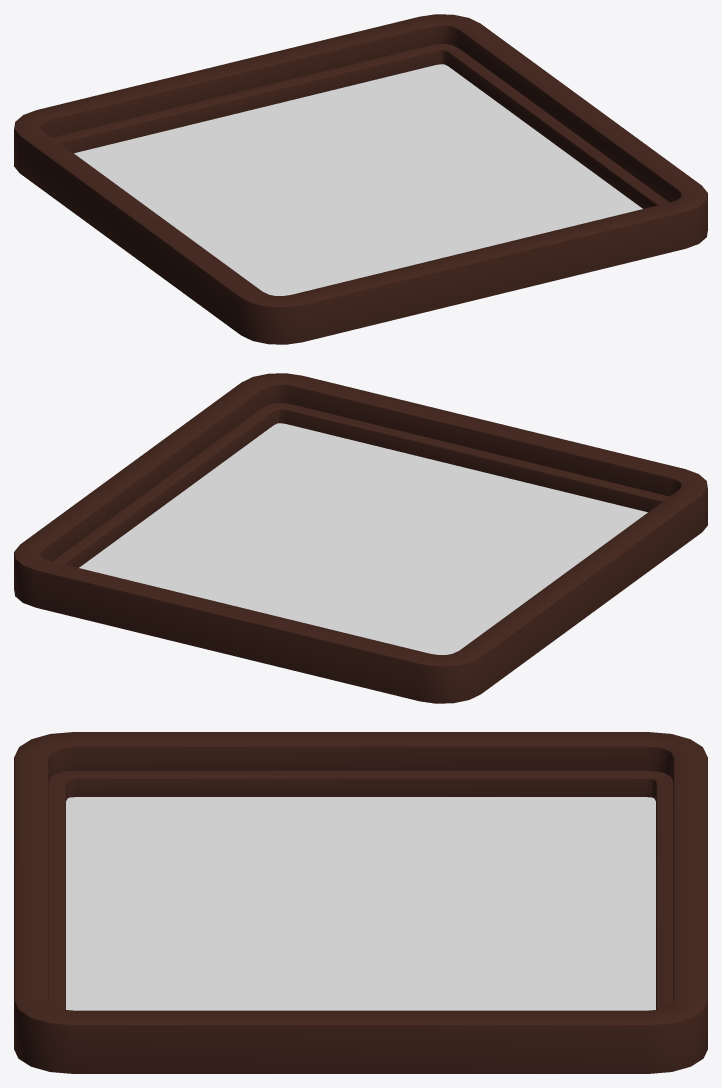
Rendered from BoardGame.fbx.
The picture shows the model from 3 angles, top to bottom: view 1: azimuth 30°, elevation 25°; view 2: azimuth 150°, elevation 25°; view 3: azimuth 270°, elevation 25°; orthographic projection. The views are drawn at different scales.
Visible parts, largest first — view 1: BoardGame; view 2: BoardGame; view 3: BoardGame.
Boxes of the visible parts, x1,y1,x2,y2 form: BoardGame: [14, 14, 707, 344]; BoardGame: [14, 373, 707, 703]; BoardGame: [14, 732, 707, 1073].
Size of the model in its own units: 100 by 7.84 by 100.
